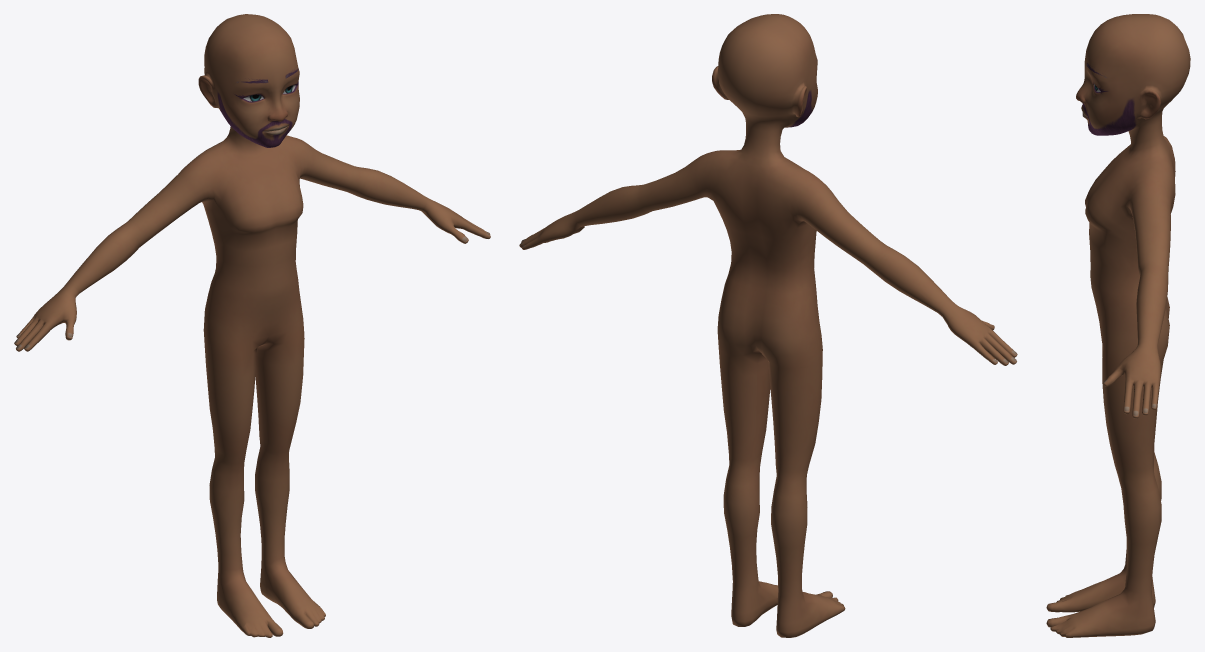
The model's file is frame_0036.glb.
The picture shows the model from 3 angles, left to right: view 1: azimuth 30°, elevation 25°; view 2: azimuth 150°, elevation 25°; view 3: azimuth 270°, elevation 25°; orthographic projection. The views are drawn at different scales.
Parts seen in each view (by area): view 1: frame_0036_head_geo; view 2: frame_0036_head_geo; view 3: frame_0036_head_geo.
Boxes of the visible parts, x1,y1,x2,y2 form: frame_0036_head_geo: (14,14,490,637); frame_0036_head_geo: (519,14,1017,637); frame_0036_head_geo: (1046,14,1190,637).
Size of the model in its own units: 1.28 by 1.5 by 0.3253.
Materials: 3 (3 with a texture image).
